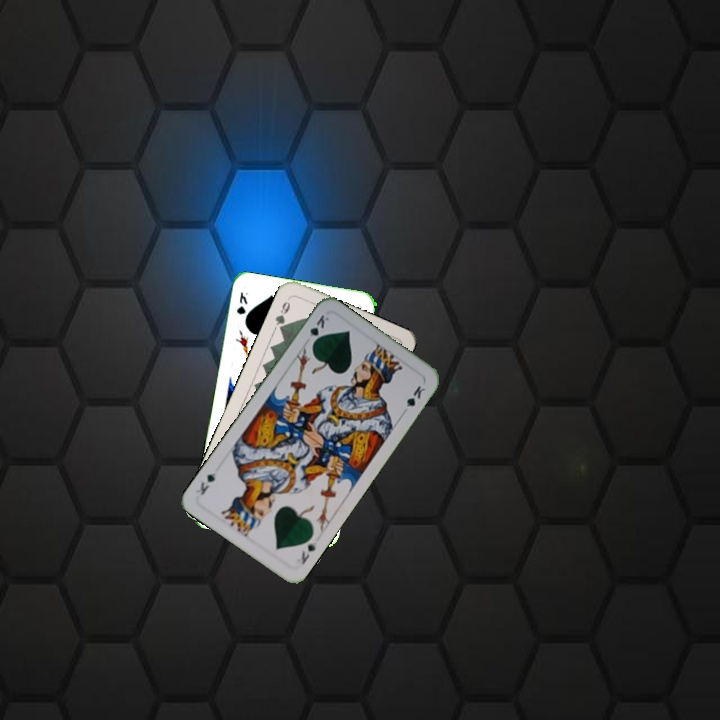G9: (271, 297, 293, 334)
GK: (304, 310, 331, 348), (297, 537, 319, 567), (233, 288, 250, 317)
